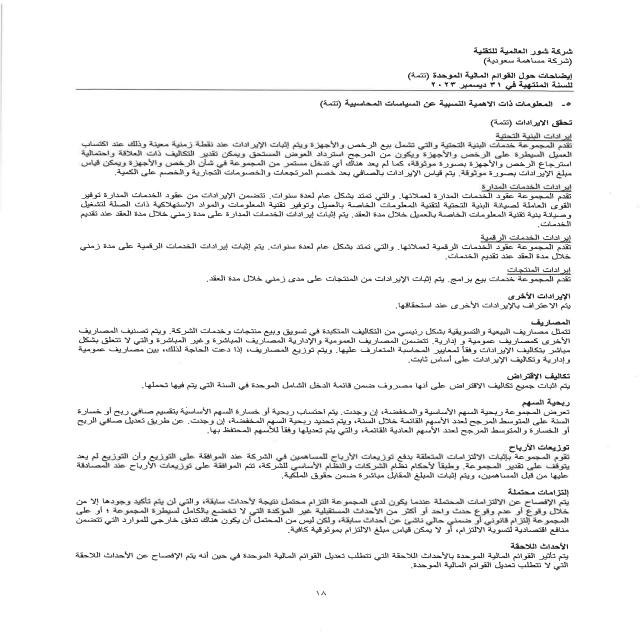notes: (402, 70, 574, 81)
text: (59, 96, 583, 583)
